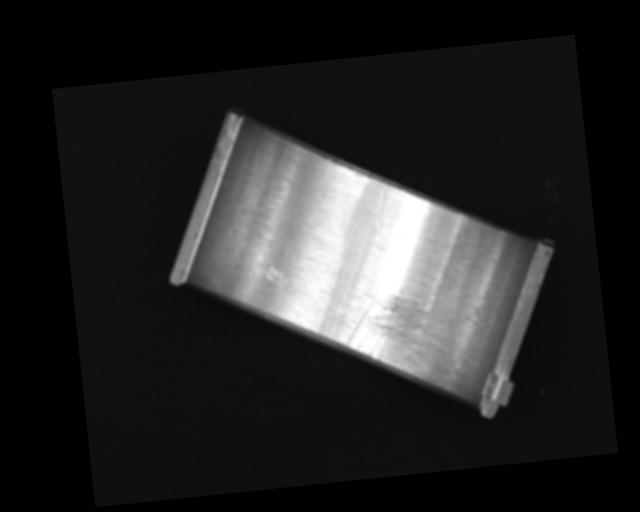bruise: (263, 263, 293, 289)
nick: (371, 187, 387, 227)
scratch: (339, 283, 443, 397)
